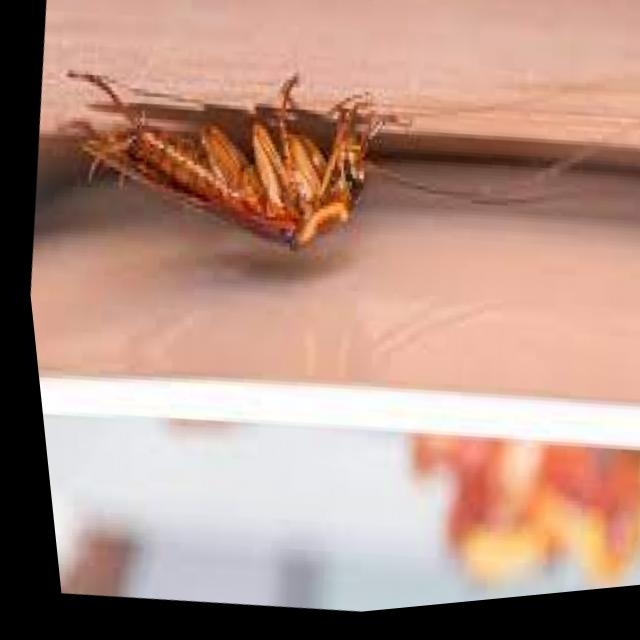Cockroach: (17, 6, 507, 340)
